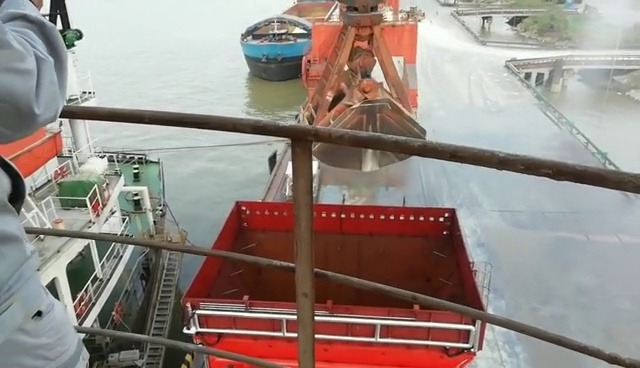grab: (289, 0, 432, 172)
